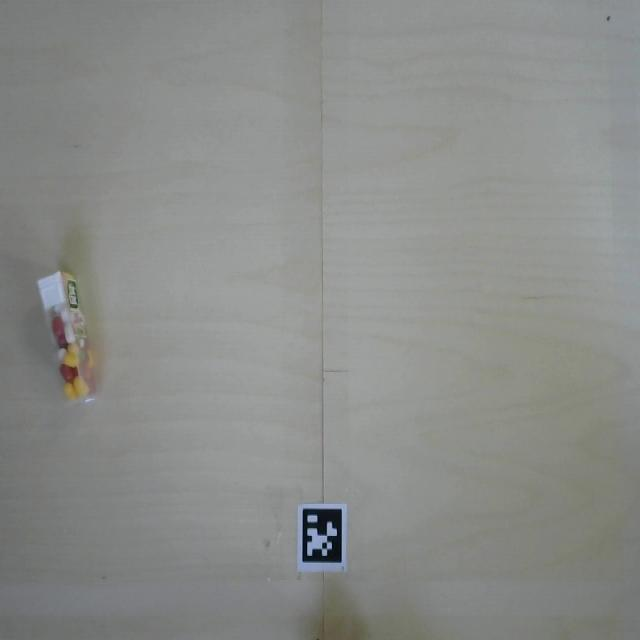tictac: (33, 260, 110, 419)
